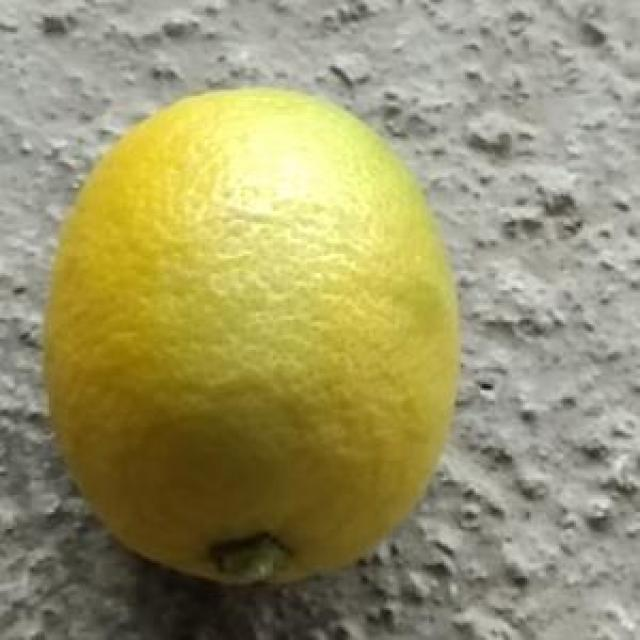lemon: (40, 79, 462, 593)
